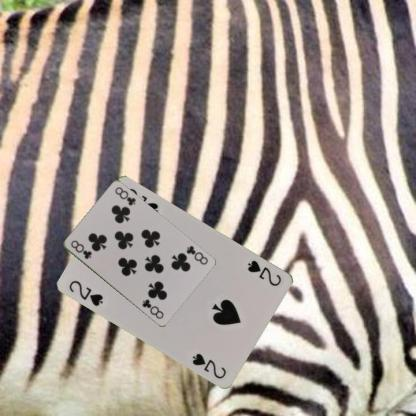2s: (66, 278, 106, 308), (245, 257, 283, 288)
8c: (68, 238, 94, 260), (183, 244, 209, 266)
